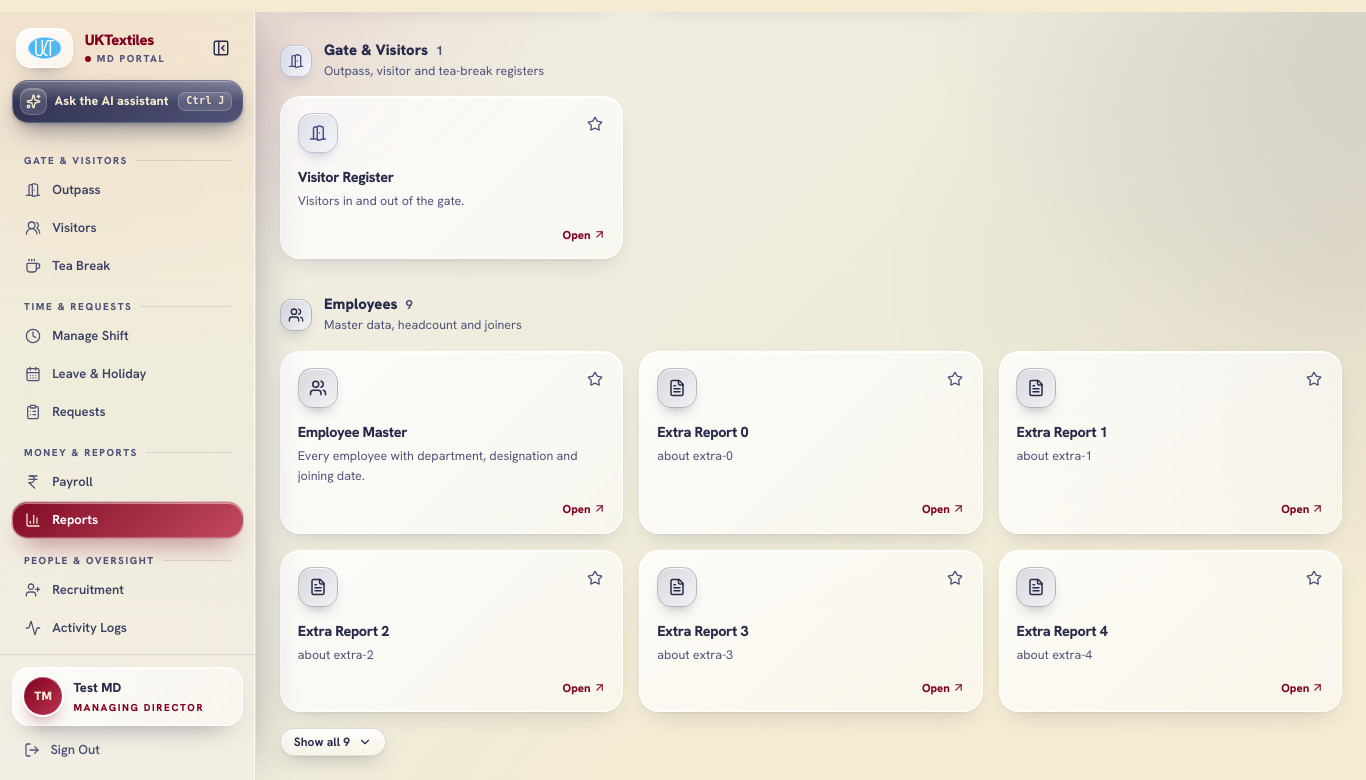
it: the library › shows the first few of a long category and the rest on 'Show all'
The width and height of the screenshot is (1366, 780).
(page scrolled)
Click the button with test id "md-more-employees": (333, 742) [280, 728, 386, 756]
(page scrolled)
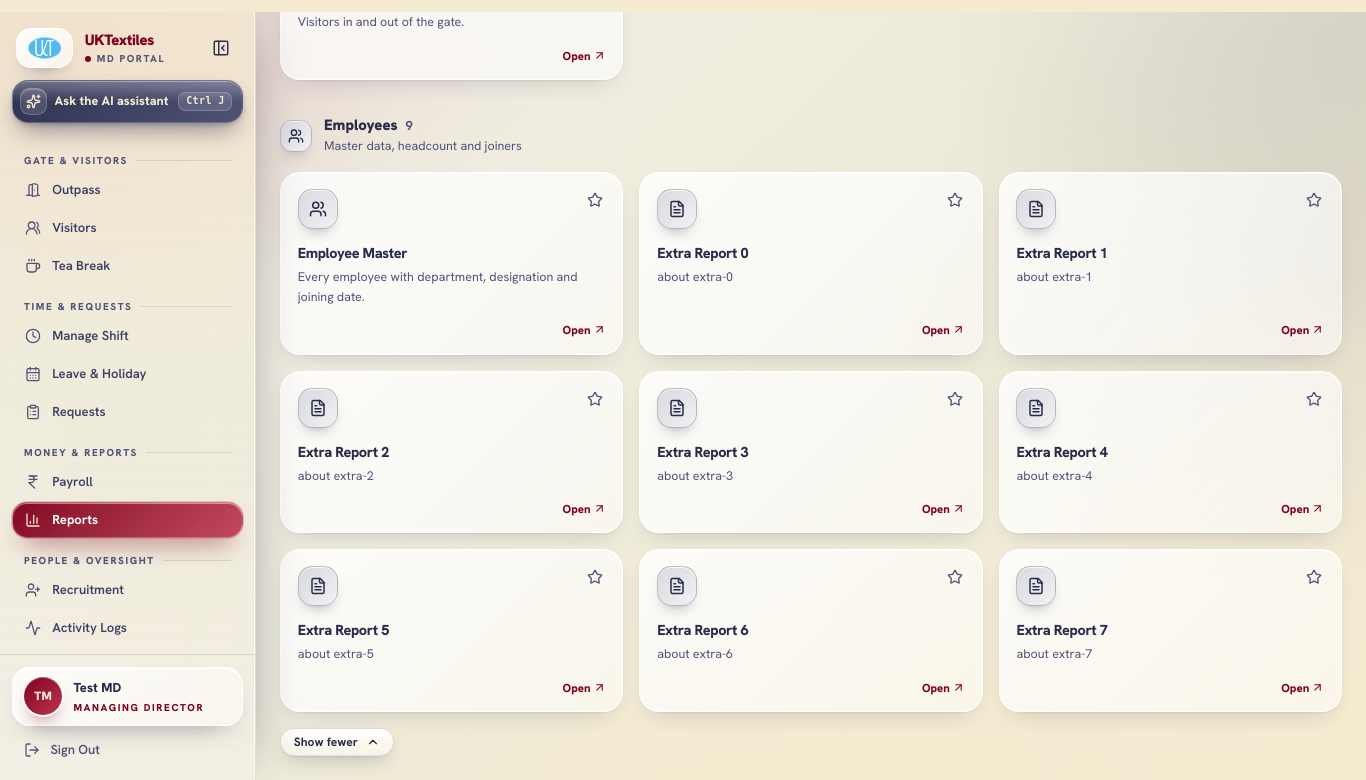
Now the button with test id "md-more-employees" reads "Show fewer", box [280, 728, 394, 756]
